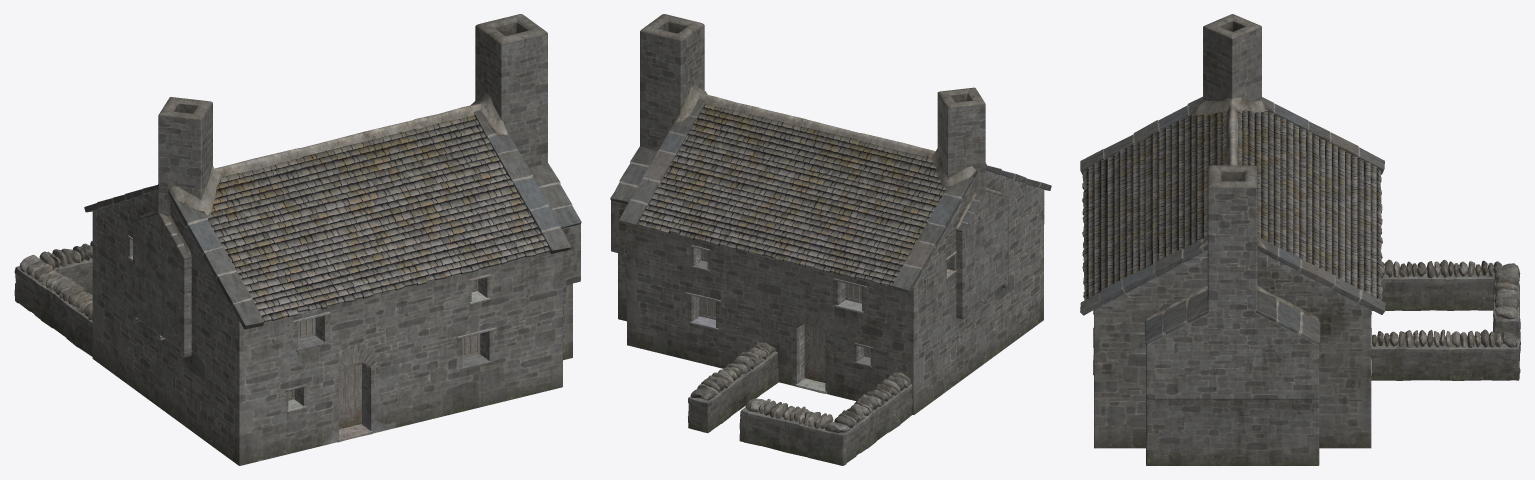
File: SM_Cottage.fbx
3 renders of one model, left to right at view 1: azimuth 30°, elevation 25°; view 2: azimuth 150°, elevation 25°; view 3: azimuth 270°, elevation 25°, orthographic. The views are drawn at different scales.
Visible parts, largest first — view 1: SM_Cottage_Walls, SM_Cottage_Roof, SM_Cottage_Trim, SM_Cottage_WallTopper, SM_Cottage_DoorsWindows; view 2: SM_Cottage_Walls, SM_Cottage_Trim, SM_Cottage_Roof, SM_Cottage_WallTopper, SM_Cottage_DoorsWindows; view 3: SM_Cottage_Trim, SM_Cottage_Roof, SM_Cottage_Walls, SM_Cottage_WallTopper.
Boxes of the visible parts, box(x1,y1,x2,y2) form: SM_Cottage_Walls: box(92, 190, 562, 465); SM_Cottage_Roof: box(207, 115, 550, 321); SM_Cottage_Trim: box(14, 14, 581, 442); SM_Cottage_WallTopper: box(19, 241, 92, 321); SM_Cottage_DoorsWindows: box(288, 279, 480, 429); SM_Cottage_Walls: box(627, 170, 1044, 414); SM_Cottage_Trim: box(610, 14, 1051, 465); SM_Cottage_Roof: box(637, 103, 946, 286); SM_Cottage_WallTopper: box(690, 341, 910, 433); SM_Cottage_DoorsWindows: box(699, 249, 870, 382); SM_Cottage_Trim: box(1080, 14, 1520, 465); SM_Cottage_Roof: box(1082, 109, 1382, 300); SM_Cottage_Walls: box(1094, 250, 1371, 448); SM_Cottage_WallTopper: box(1372, 259, 1520, 347).
Bounding box in the file's own units: 1188 × 904 × 1271.
